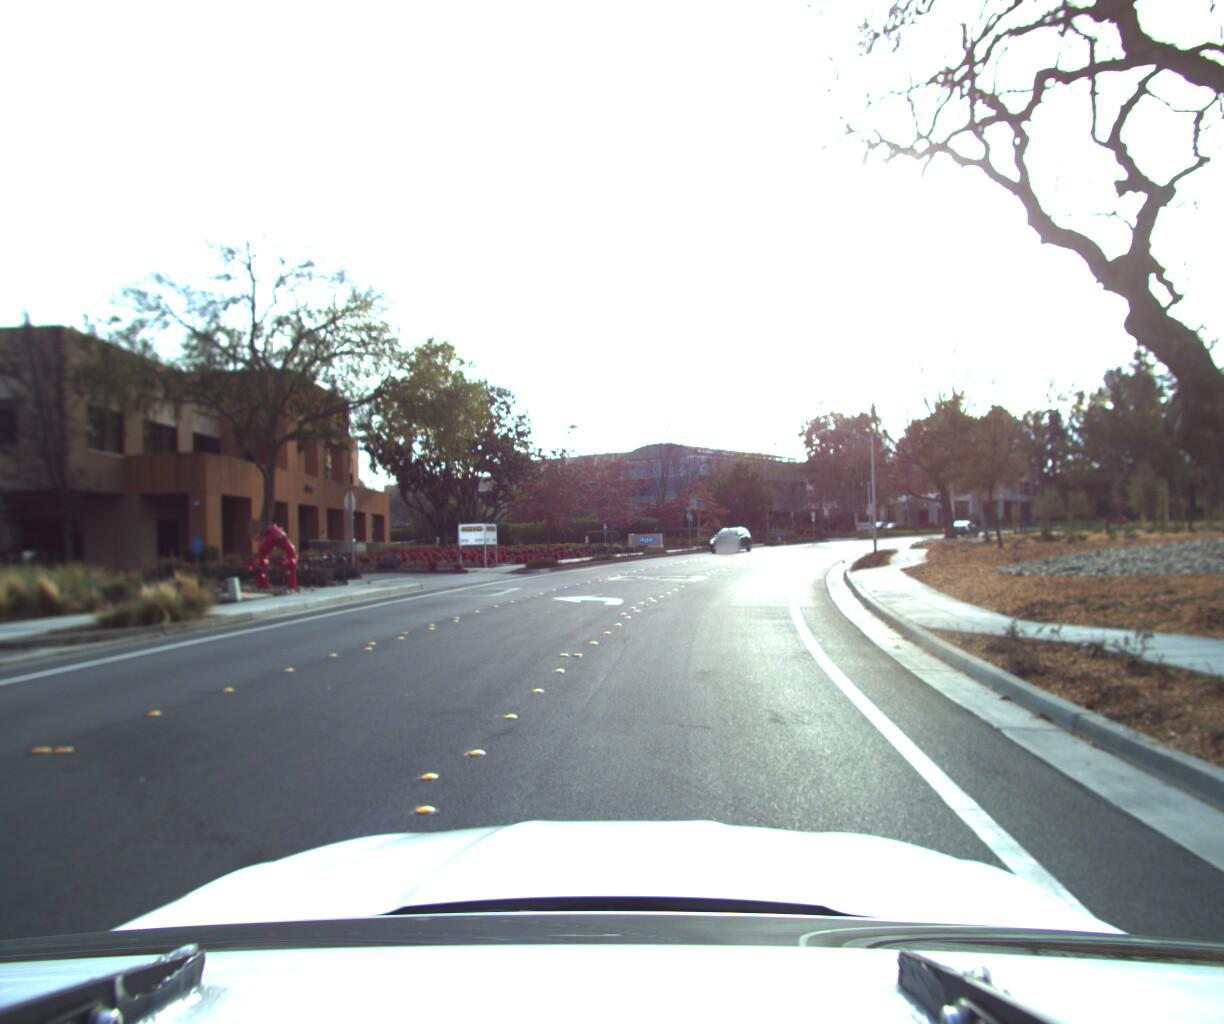car: (702, 523, 753, 553)
